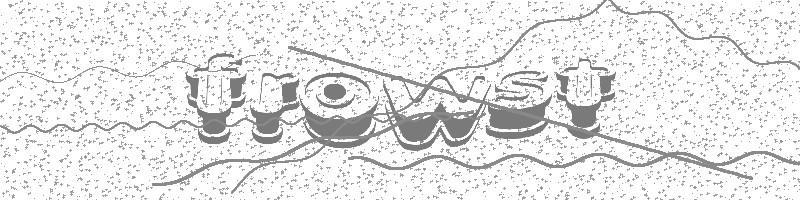f: (184, 49, 247, 145)
o: (301, 65, 378, 149)
r: (249, 70, 301, 145)
s: (486, 66, 550, 140)
t: (552, 55, 618, 140)
w: (377, 73, 493, 151)
